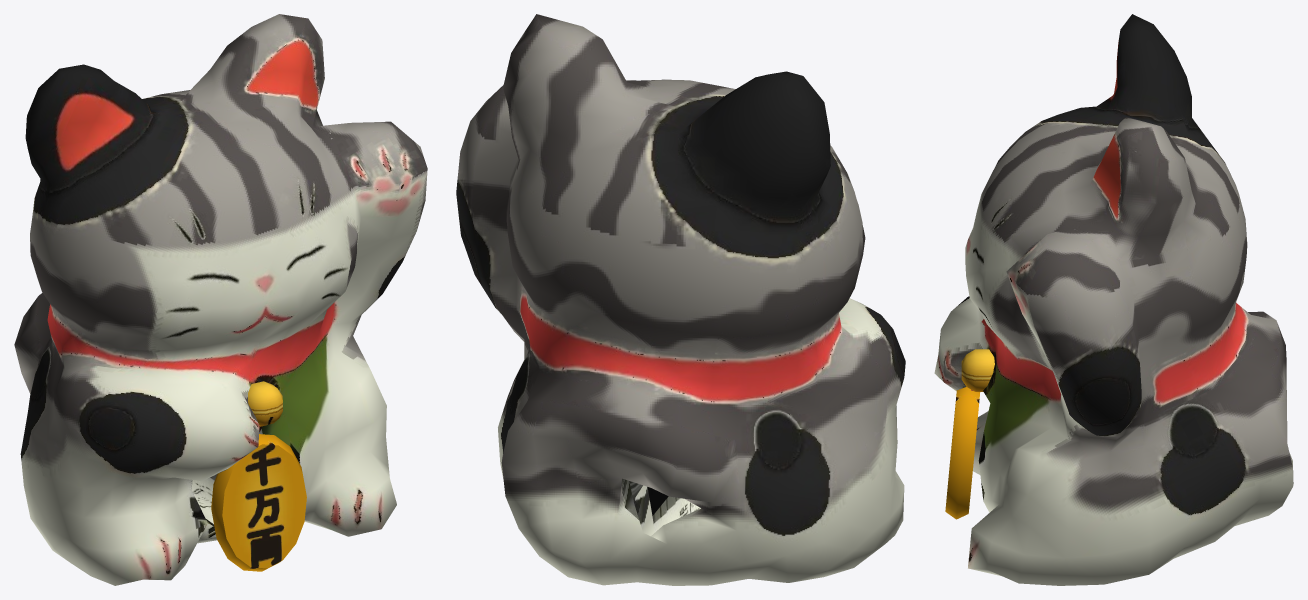
File: ownluckycat.glb
The picture shows the model from 3 angles, left to right: view 1: azimuth 30°, elevation 25°; view 2: azimuth 150°, elevation 25°; view 3: azimuth 270°, elevation 25°; orthographic projection. The views are drawn at different scales.
Parts seen in each view (by area): view 1: OwnCatBody, OwnCatKoban, OwnCatBell; view 2: OwnCatBody; view 3: OwnCatBody, OwnCatKoban, OwnCatBell.
Boxes of the visible parts, bbox=[...] form: OwnCatBody: bbox=[14, 14, 427, 585]; OwnCatKoban: bbox=[211, 434, 306, 571]; OwnCatBell: bbox=[248, 381, 282, 426]; OwnCatBody: bbox=[456, 14, 905, 585]; OwnCatBody: bbox=[934, 14, 1293, 585]; OwnCatKoban: bbox=[945, 387, 980, 519]; OwnCatBell: bbox=[961, 349, 994, 391].
Bounding box in the file's own units: 0.2512 × 0.298 × 0.2145.
Materials: 3 (3 with a texture image).
